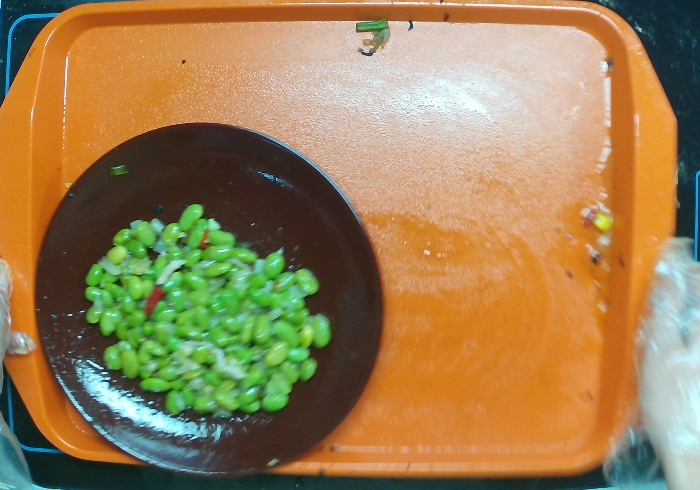HZYJPL-Ka_Fei_Yuan_Pan: (26, 114, 389, 490)
